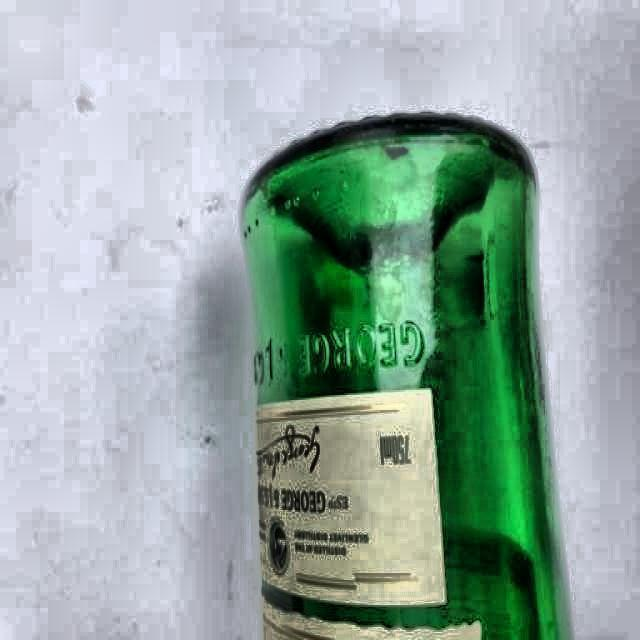glass: (239, 113, 576, 640)
